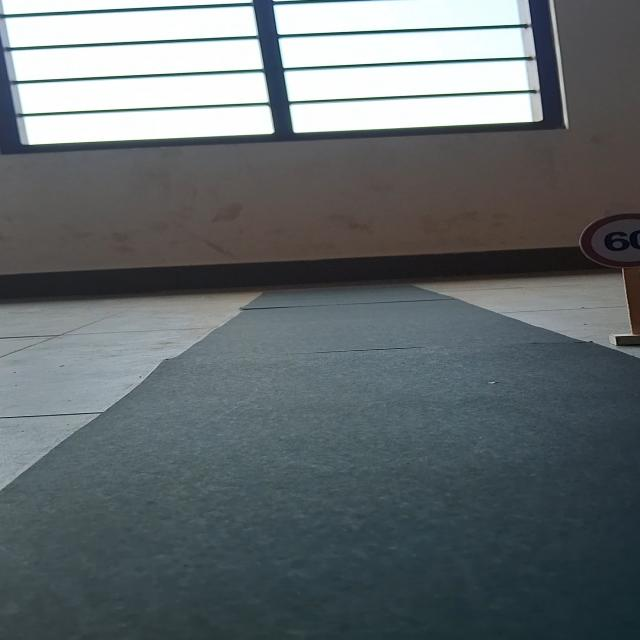Speed60: (575, 212, 640, 270)
